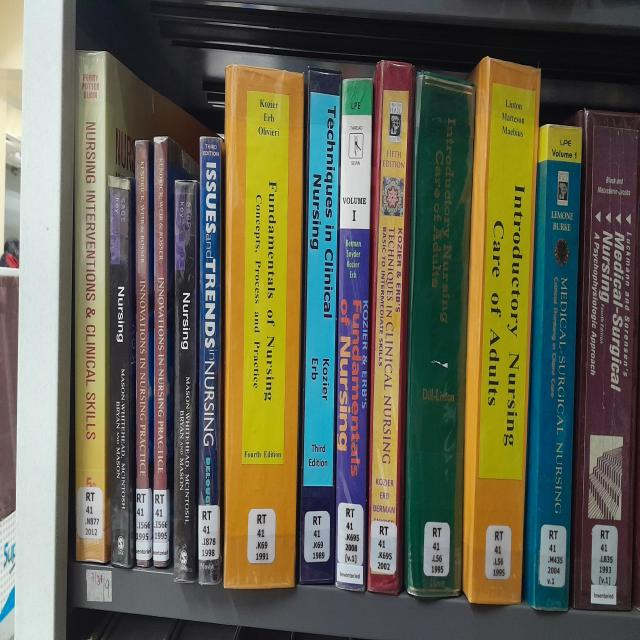book: (463, 57, 540, 604), (224, 65, 304, 588), (405, 71, 475, 597), (573, 111, 640, 610), (525, 124, 582, 610), (367, 61, 414, 594), (300, 68, 342, 584), (336, 79, 373, 590), (152, 137, 189, 568), (75, 48, 106, 562), (108, 176, 136, 568), (173, 180, 199, 581), (198, 136, 221, 584), (135, 141, 154, 566)
